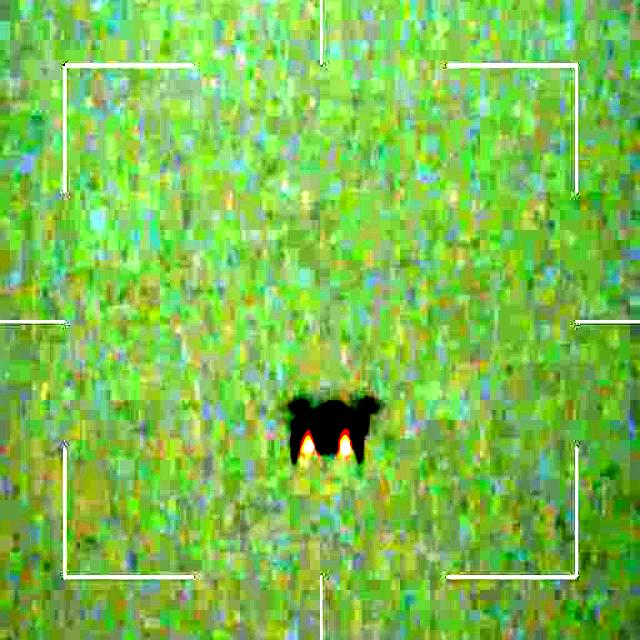bird: (281, 396, 380, 462)
